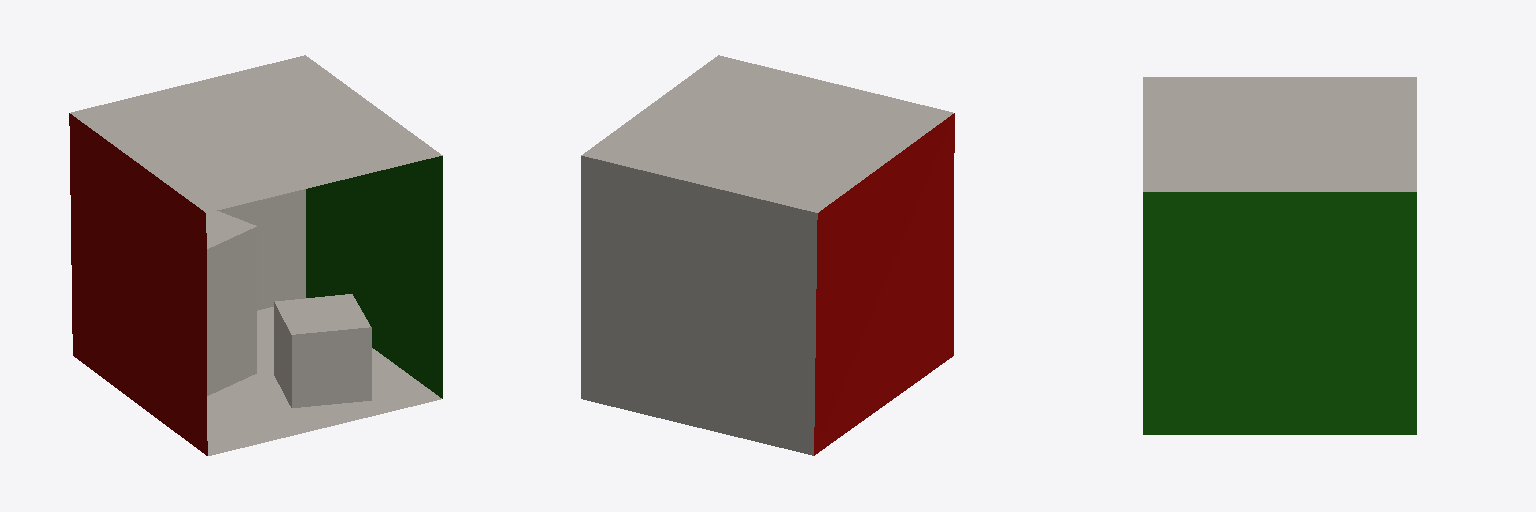
Rendered from cornell.obj.
The picture shows the model from 3 angles: view 1: azimuth 30°, elevation 25°; view 2: azimuth 150°, elevation 25°; view 3: azimuth 270°, elevation 25°; orthographic projection.
Size of the model in its own units: 2.02 by 1.99 by 2.03.